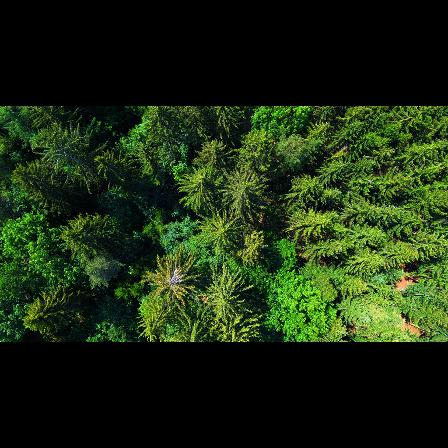Sick: (149, 259, 195, 299)
